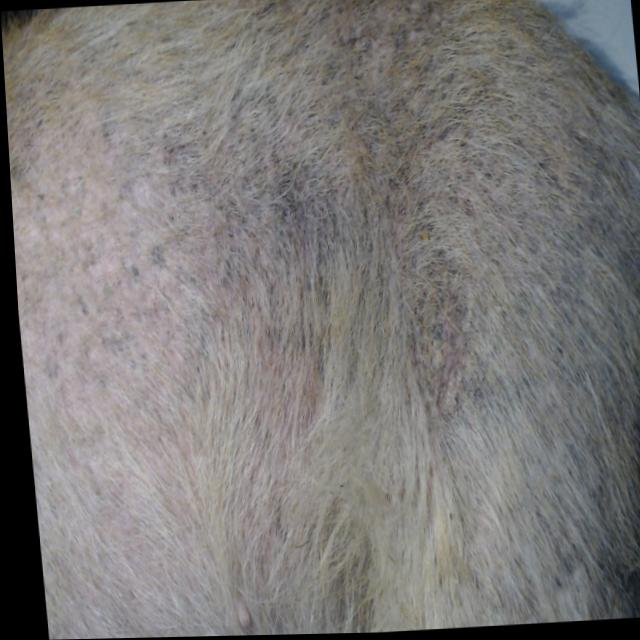demodicosis: (19, 98, 323, 459), (333, 42, 516, 389)
